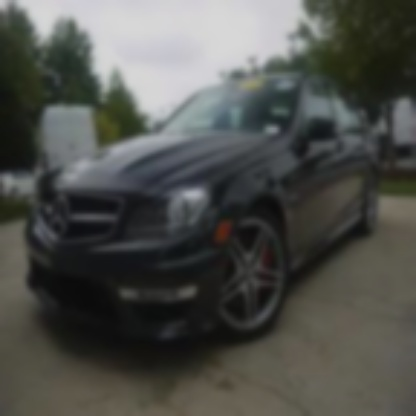Vehicle: (16, 28, 397, 390)
